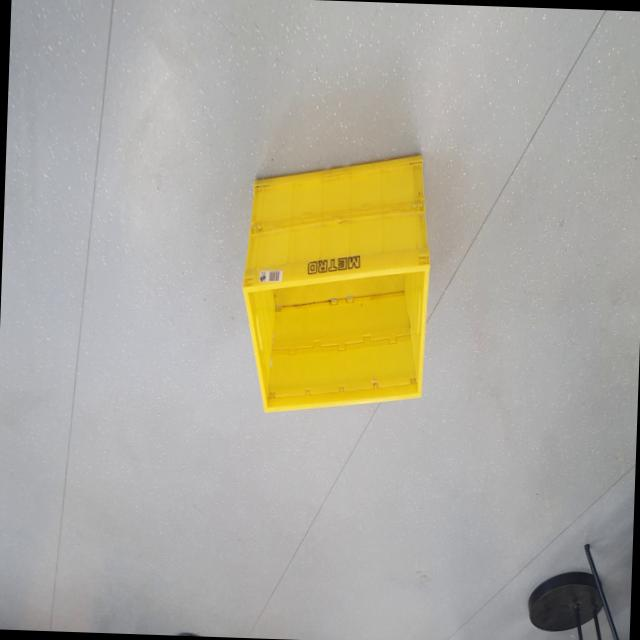box: (234, 140, 443, 423)
